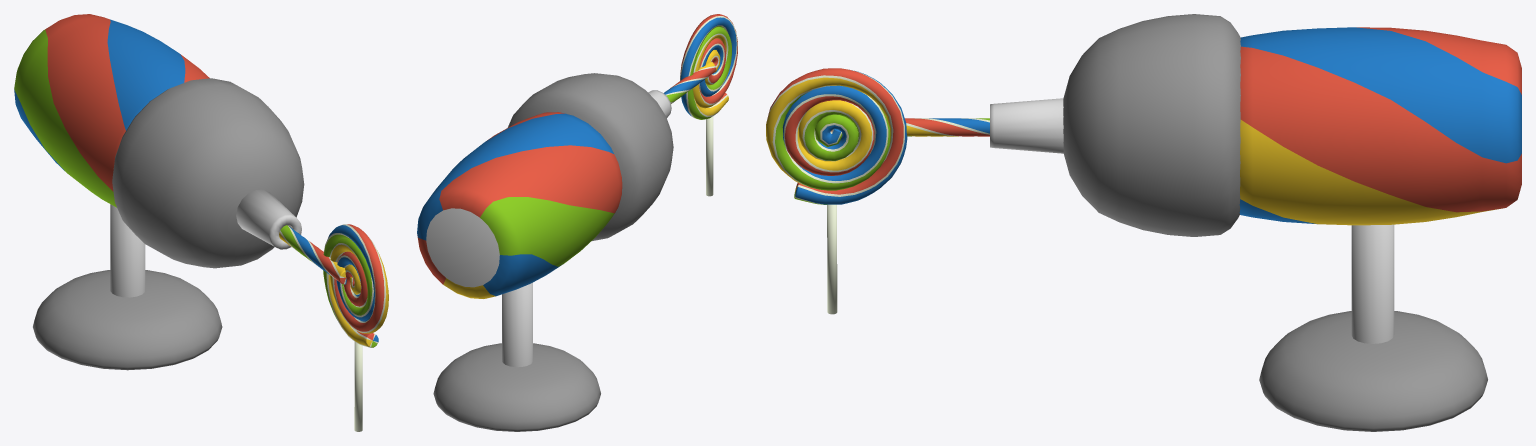
The model's file is LLP_M.fbx.
3 views of the same model, side by side, from view 1: azimuth 30°, elevation 25°; view 2: azimuth 150°, elevation 25°; view 3: azimuth 270°, elevation 25° (orthographic). The views are drawn at different scales.
Visible parts, largest first — view 1: LM_Body, LM_LLPHead, LM_injection, LM_LLPBar; view 2: LM_Body, LM_LLPHead, LM_injection, LM_LLPBar; view 3: LM_Body, LM_LLPHead, LM_injection, LM_LLPBar.
Part boxes in pixels (x1=…): LM_Body: x1=14, y1=14, x2=304, y2=370; LM_LLPHead: x1=323, y1=224, x2=388, y2=347; LM_injection: x1=279, y1=225, x2=346, y2=284; LM_LLPBar: x1=354, y1=342, x2=362, y2=431; LM_Body: x1=417, y1=73, x2=673, y2=431; LM_LLPHead: x1=680, y1=14, x2=737, y2=119; LM_injection: x1=664, y1=61, x2=715, y2=103; LM_LLPBar: x1=706, y1=116, x2=713, y2=196; LM_Body: x1=990, y1=14, x2=1521, y2=431; LM_LLPHead: x1=766, y1=68, x2=907, y2=204; LM_injection: x1=905, y1=118, x2=989, y2=136; LM_LLPBar: x1=827, y1=204, x2=837, y2=314.
Size of the model in its own units: 522 by 919 by 1724.
